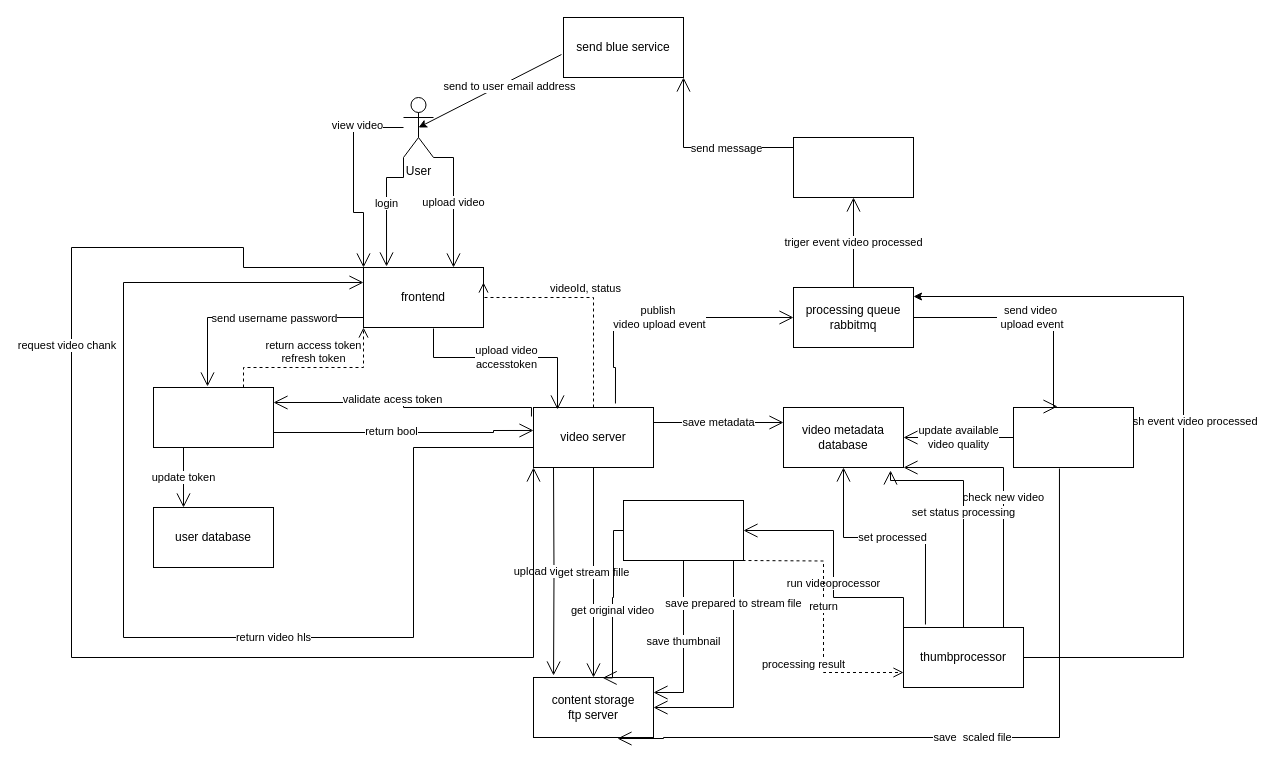
The diagram is 1275 pixels wide and 771 high, and some of its shapes have lost their labels. The shapes that lost their labels are listed below. From the top down, each one's centre as x and y in pixels, then its label:
point (853, 167): user notifier
point (213, 417): authentication server
point (1073, 437): video-scaler
point (683, 530): videoprocessor
